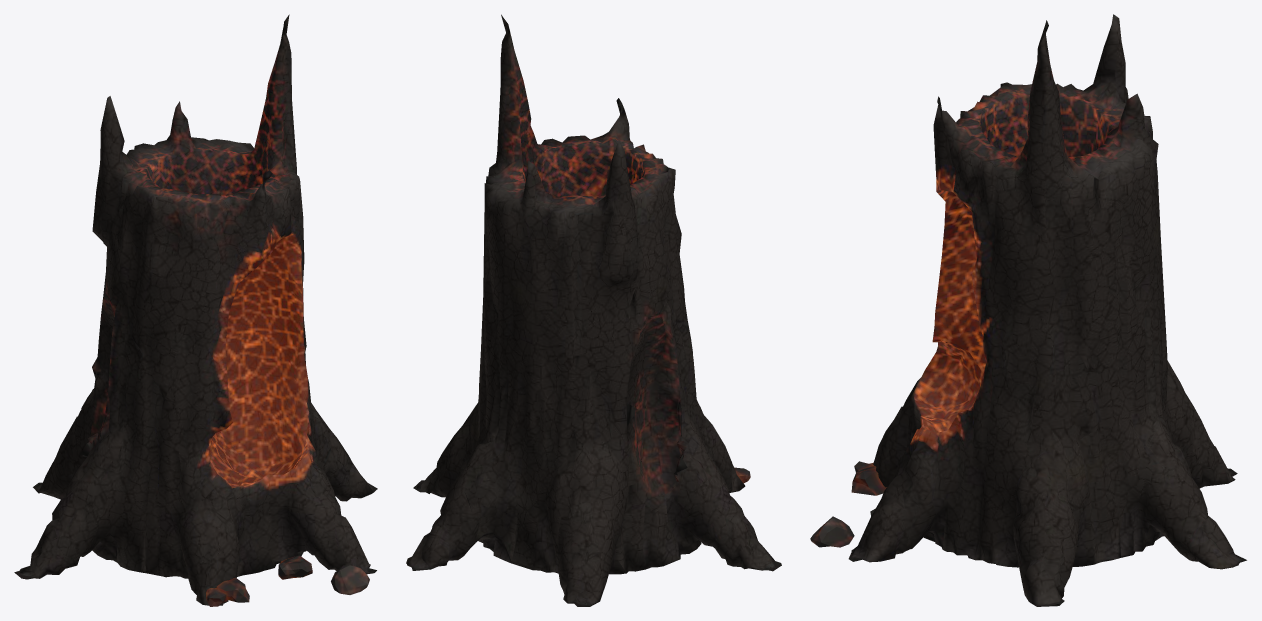
File: b4p_charred_stump.glb
3 views of the same model, side by side, from view 1: azimuth 30°, elevation 25°; view 2: azimuth 150°, elevation 25°; view 3: azimuth 270°, elevation 25° (orthographic). The views are drawn at different scales.
Visible parts, largest first — view 1: b4p_charred_stump; view 2: b4p_charred_stump; view 3: b4p_charred_stump.
Boxes of the visible parts, bbox=[...] form: b4p_charred_stump: bbox=[14, 14, 377, 606]; b4p_charred_stump: bbox=[406, 14, 781, 606]; b4p_charred_stump: bbox=[810, 14, 1246, 606].
Size of the model in its own units: 0.9136 by 1.2 by 0.8745.
1 material, 1 textured.
